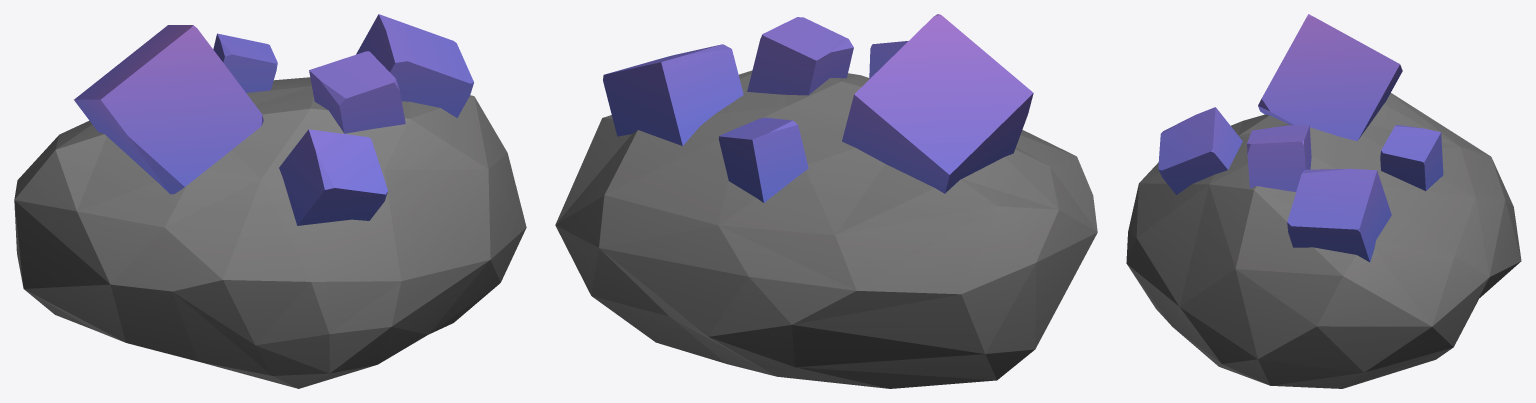
File: min_2.glb
3 renders of one model, left to right at view 1: azimuth 30°, elevation 25°; view 2: azimuth 150°, elevation 25°; view 3: azimuth 270°, elevation 25°, orthographic. The views are drawn at different scales.
Visible parts, largest first — view 1: crystal_basalt_green.039_SimplePolygonPalette_0; view 2: crystal_basalt_green.039_SimplePolygonPalette_0; view 3: crystal_basalt_green.039_SimplePolygonPalette_0.
Part boxes in pixels (<box>): crystal_basalt_green.039_SimplePolygonPalette_0: <box>14,14,526,388</box>; crystal_basalt_green.039_SimplePolygonPalette_0: <box>555,14,1097,388</box>; crystal_basalt_green.039_SimplePolygonPalette_0: <box>1126,14,1521,388</box>.
Size of the model in its own units: 1.91 by 1.32 by 1.67.
Materials: 1 (1 with a texture image).
